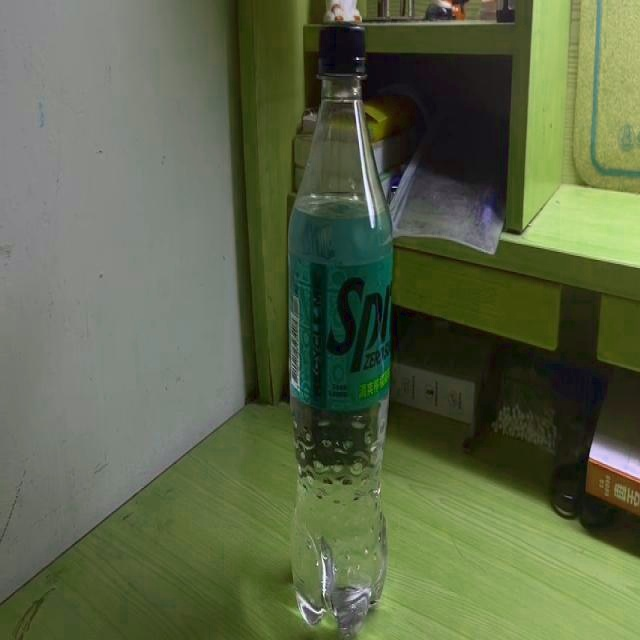Sprite: (289, 22, 393, 640)
